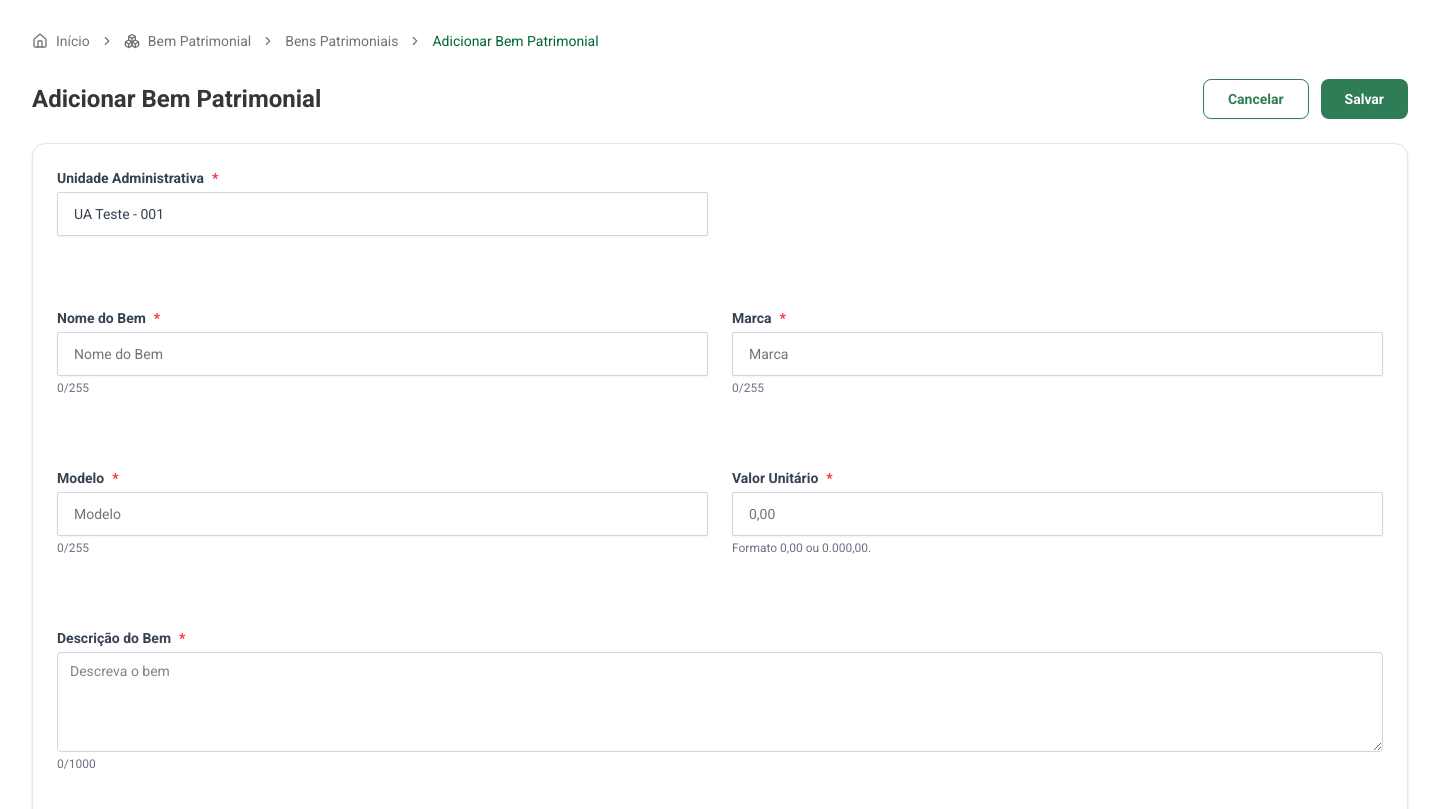
Test: BemCreatePage › deve sinalizar a localização pendente da linha ao submeter
Step 1. Type "Notebook" into the field with placeholder "Nome do Bem" → (382,354), box top-left (57, 332), bottom-right (708, 376)
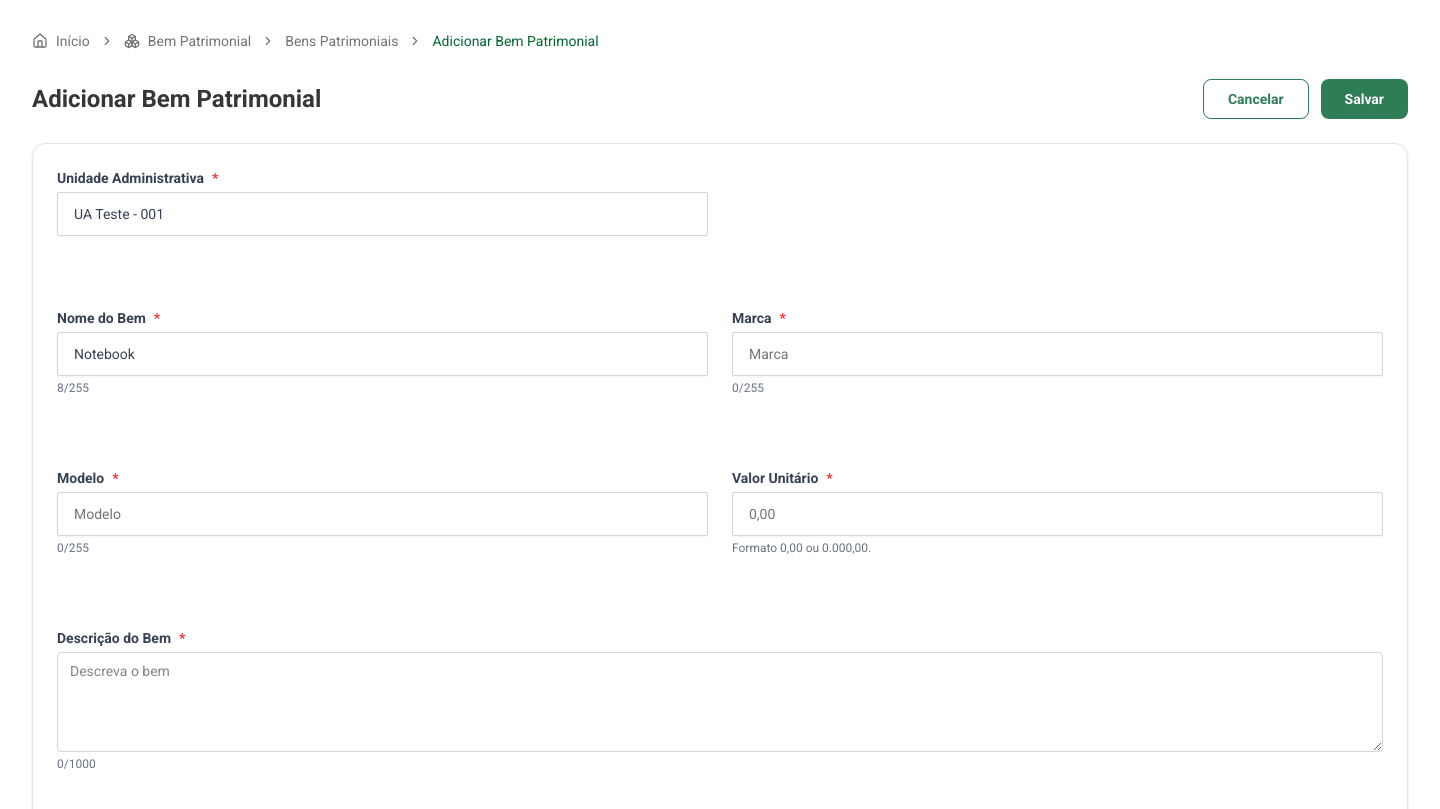
Step 2. Type "Desc" into the text box with placeholder "Descreva o bem" → (720,702), box top-left (57, 652), bottom-right (1383, 752)
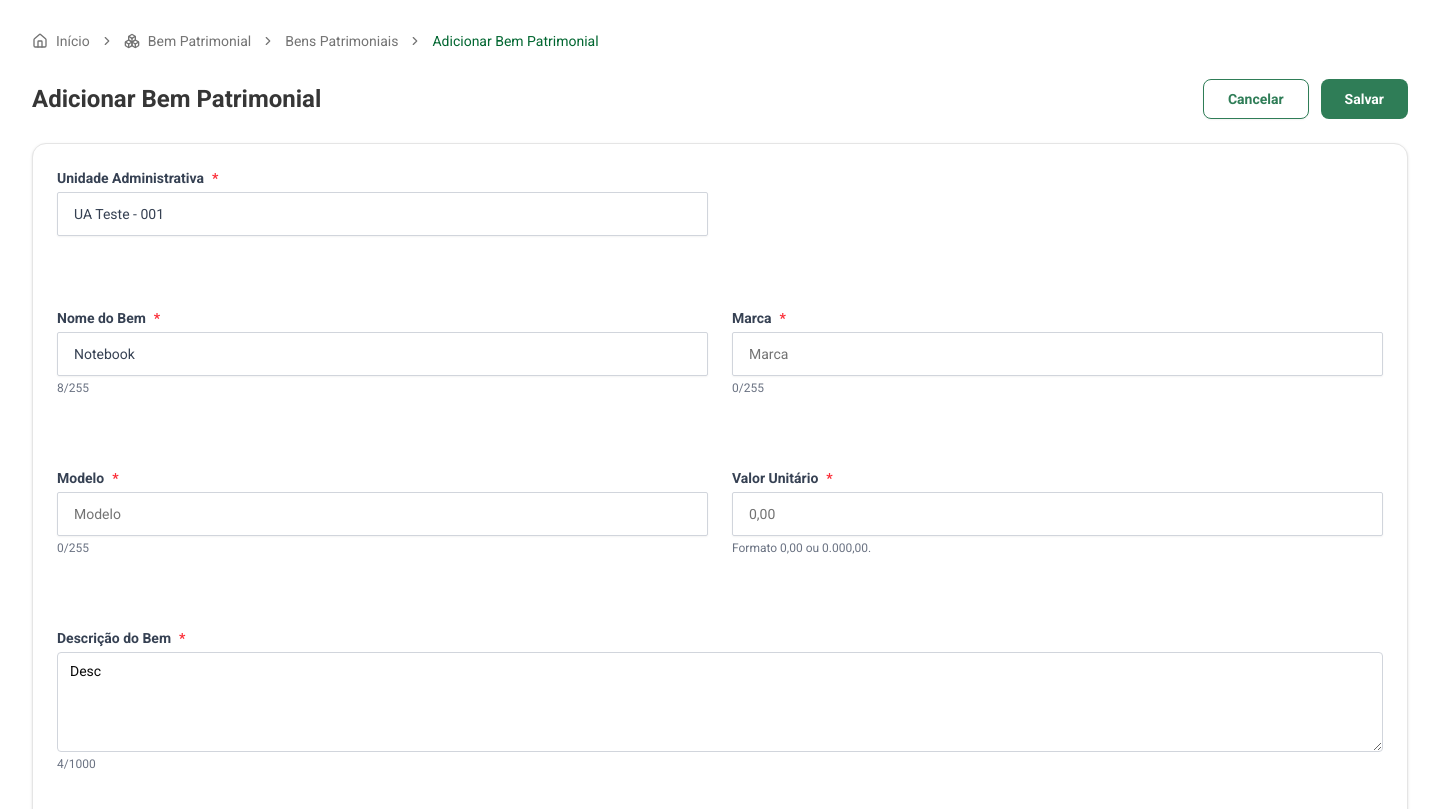
Step 3. Type "100" into the field with placeholder "0,00" → (1058,514), box top-left (732, 492), bottom-right (1383, 536)
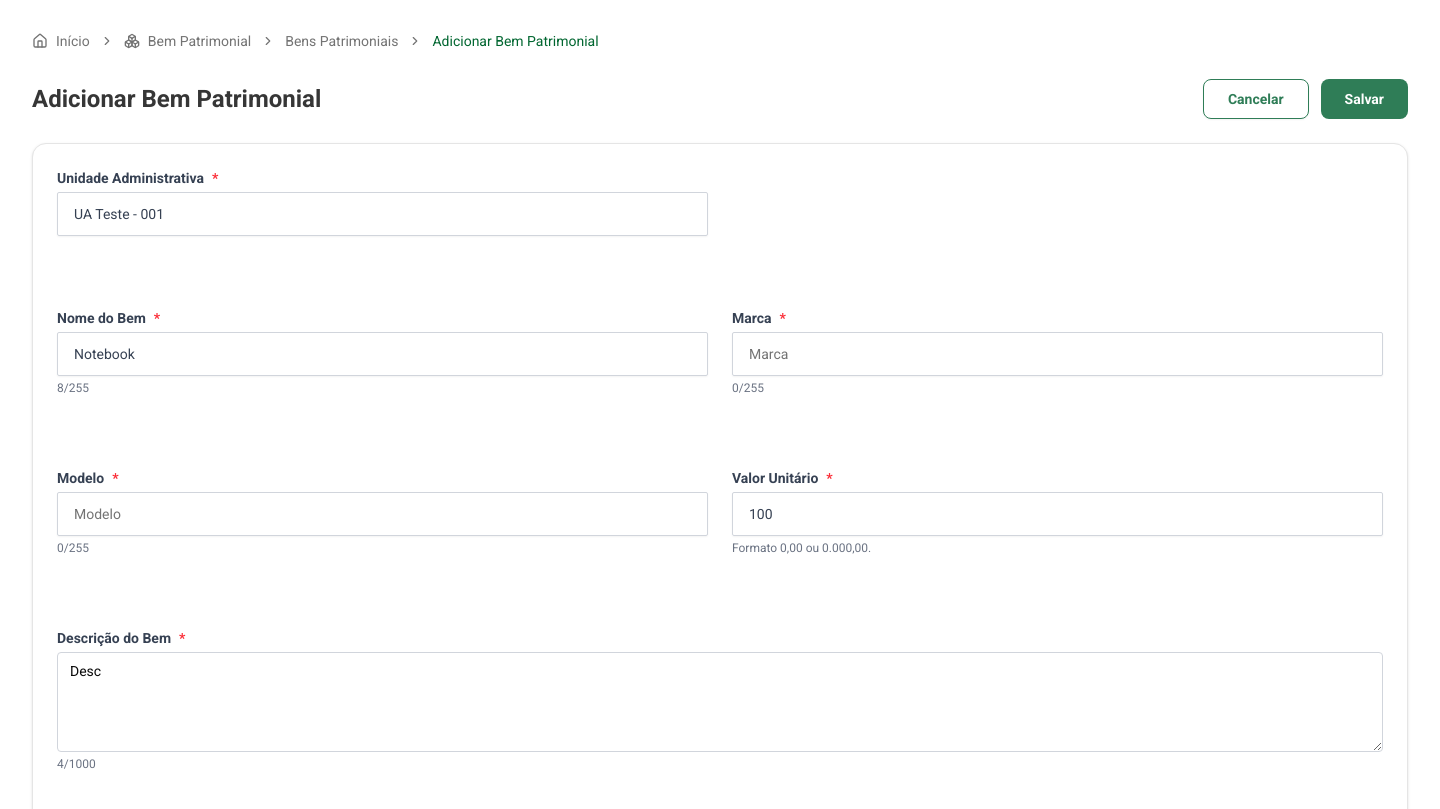
Step 4. Type "Dell" into the field with placeholder "Marca" → (1058,354), box top-left (732, 332), bottom-right (1383, 376)
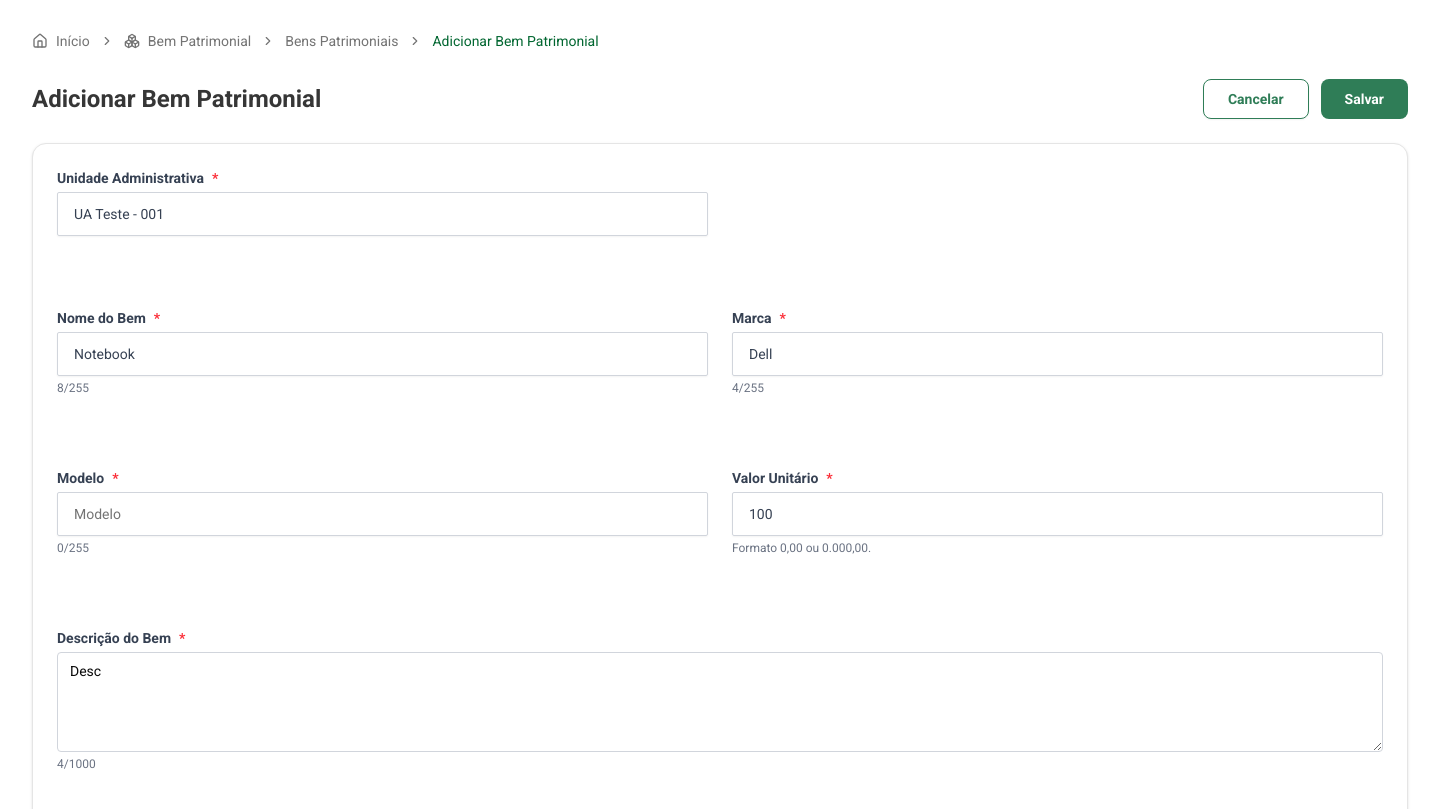
Step 5. Type "X" into the field with placeholder "Modelo" → (382,514), box top-left (57, 492), bottom-right (708, 536)
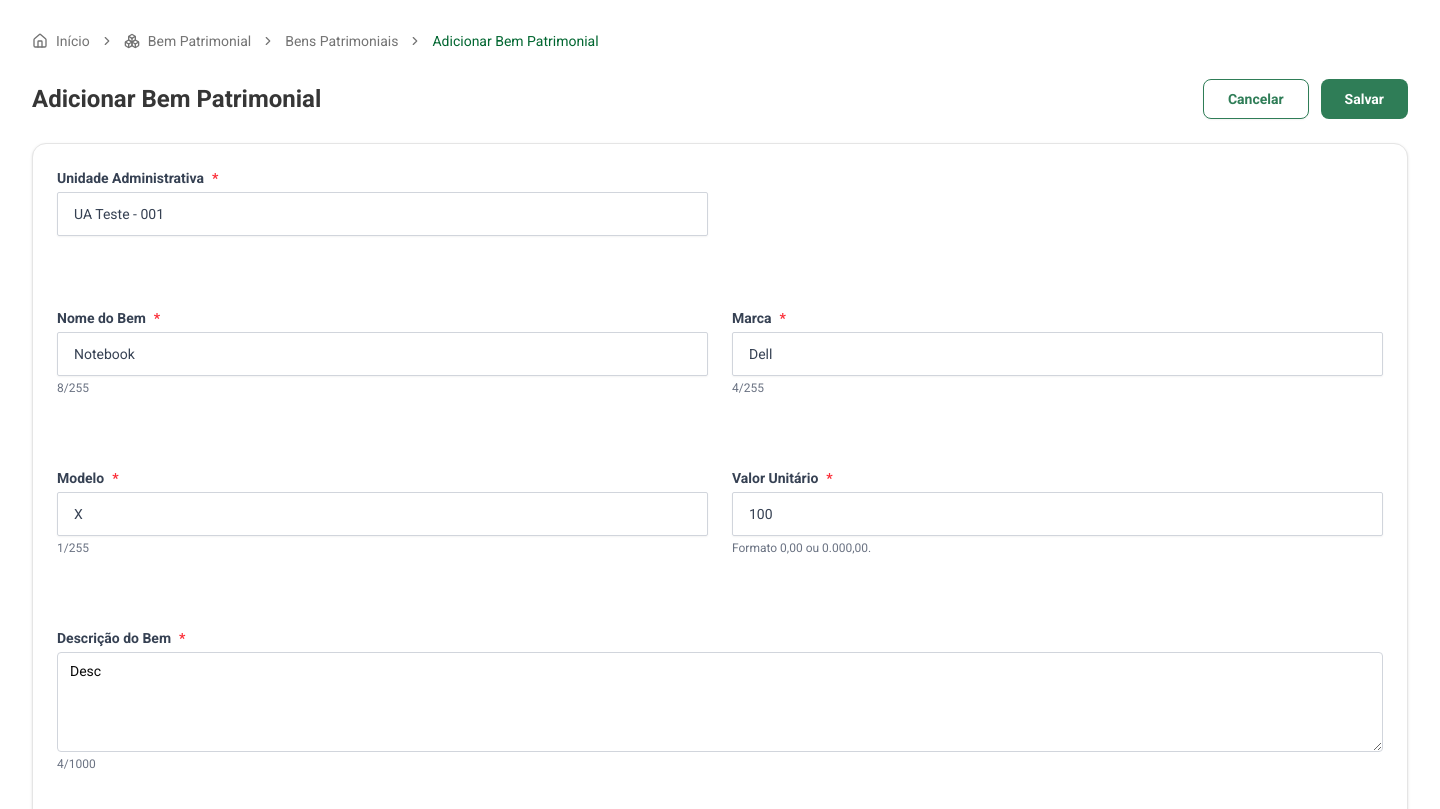
Step 6. Click the button "Salvar" → (1364,99), box top-left (1321, 79), bottom-right (1408, 119)
(page scrolled)
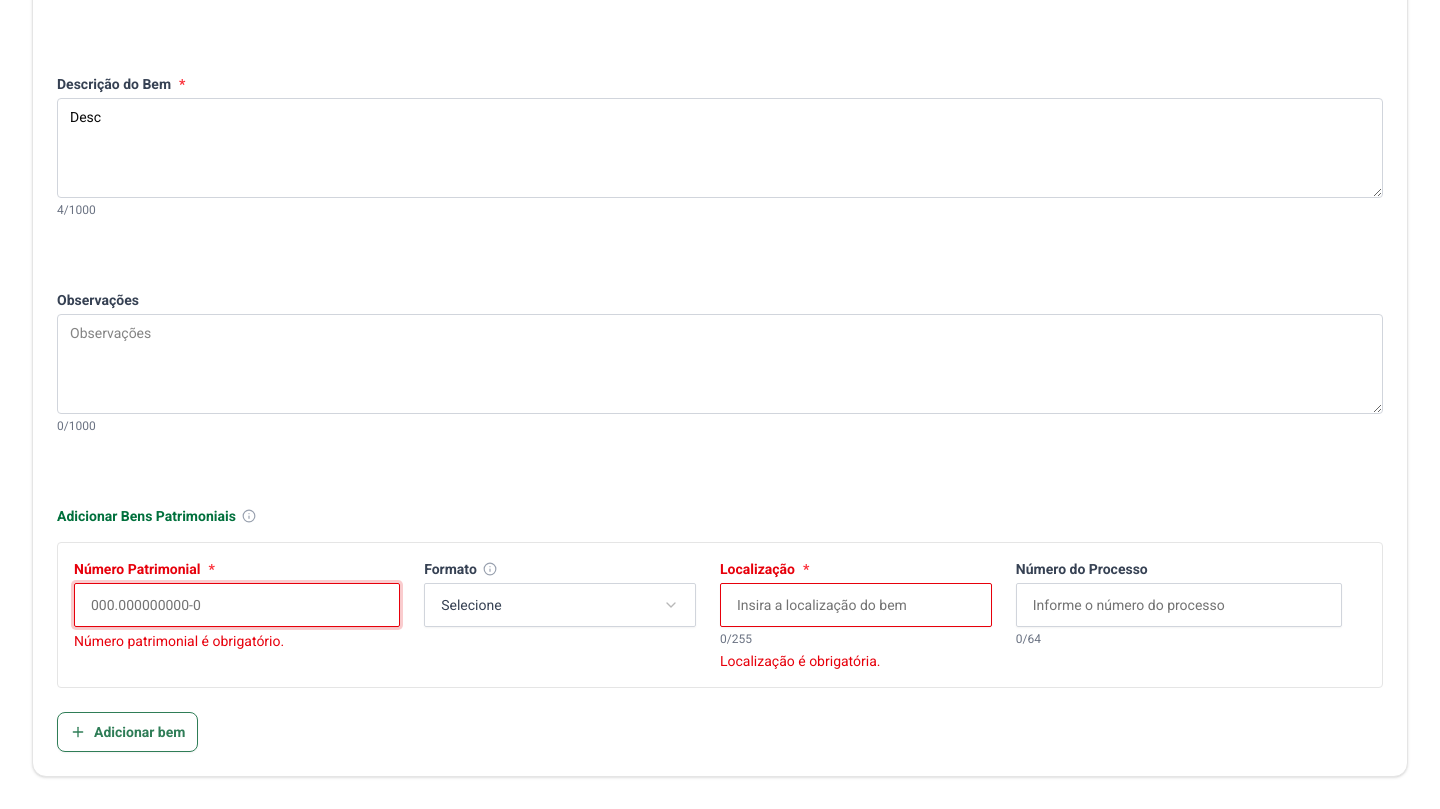
Now the text "Localização é obrigatória." is shown, box top-left (720, 653), bottom-right (880, 669)
